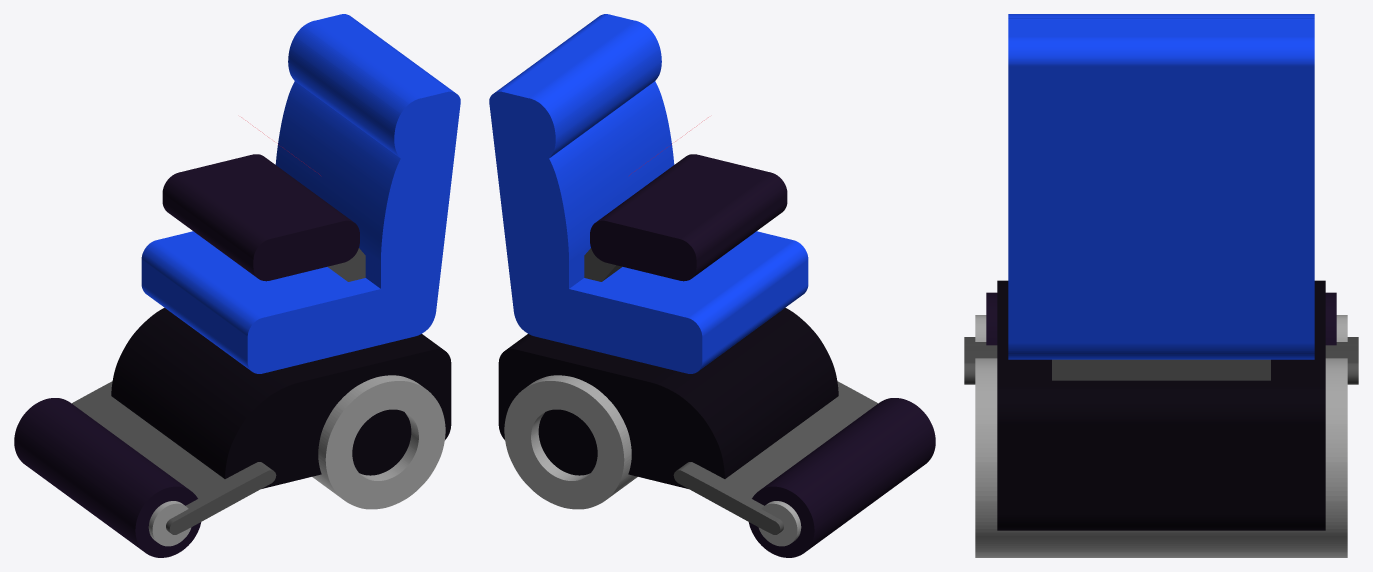
The picture shows the model from 3 angles, left to right: view 1: azimuth 30°, elevation 25°; view 2: azimuth 150°, elevation 25°; view 3: azimuth 270°, elevation 25°; orthographic projection. The views are drawn at different scales.
Parts seen in each view (by area): view 1: U+1F9BC_layer04_obj00, U+1F9BC_layer05_obj00, U+1F9BC_layer02_obj00, U+1F9BC_layer06_obj00, U+1F9BC_layer07_obj00, U+1F9BC_layer08_obj00, U+1F9BC_layer00_obj00; view 2: U+1F9BC_layer04_obj00, U+1F9BC_layer05_obj00, U+1F9BC_layer02_obj00, U+1F9BC_layer06_obj00, U+1F9BC_layer07_obj00, U+1F9BC_layer08_obj00, U+1F9BC_layer00_obj00; view 3: U+1F9BC_layer04_obj00, U+1F9BC_layer05_obj00, U+1F9BC_layer07_obj00, U+1F9BC_layer00_obj00, U+1F9BC_layer08_obj00, U+1F9BC_layer06_obj00.
Part boxes in pixels (x1,y1,x2,y2): U+1F9BC_layer04_obj00: [141, 14, 460, 373]; U+1F9BC_layer05_obj00: [111, 308, 451, 488]; U+1F9BC_layer02_obj00: [162, 154, 359, 281]; U+1F9BC_layer06_obj00: [14, 398, 201, 557]; U+1F9BC_layer07_obj00: [148, 375, 445, 546]; U+1F9BC_layer08_obj00: [72, 381, 276, 534]; U+1F9BC_layer00_obj00: [327, 248, 365, 281]; U+1F9BC_layer04_obj00: [489, 14, 808, 373]; U+1F9BC_layer05_obj00: [498, 308, 838, 488]; U+1F9BC_layer02_obj00: [590, 154, 787, 281]; U+1F9BC_layer06_obj00: [748, 398, 935, 557]; U+1F9BC_layer07_obj00: [504, 375, 801, 546]; U+1F9BC_layer08_obj00: [673, 381, 877, 534]; U+1F9BC_layer00_obj00: [584, 248, 622, 281]; U+1F9BC_layer04_obj00: [1008, 14, 1314, 359]; U+1F9BC_layer05_obj00: [997, 280, 1325, 530]; U+1F9BC_layer07_obj00: [975, 315, 1347, 557]; U+1F9BC_layer00_obj00: [1052, 359, 1270, 380]; U+1F9BC_layer08_obj00: [964, 337, 1358, 384]; U+1F9BC_layer06_obj00: [986, 292, 1336, 345].
Size of the model in its own units: 0.5073 by 0.5677 by 0.36.
